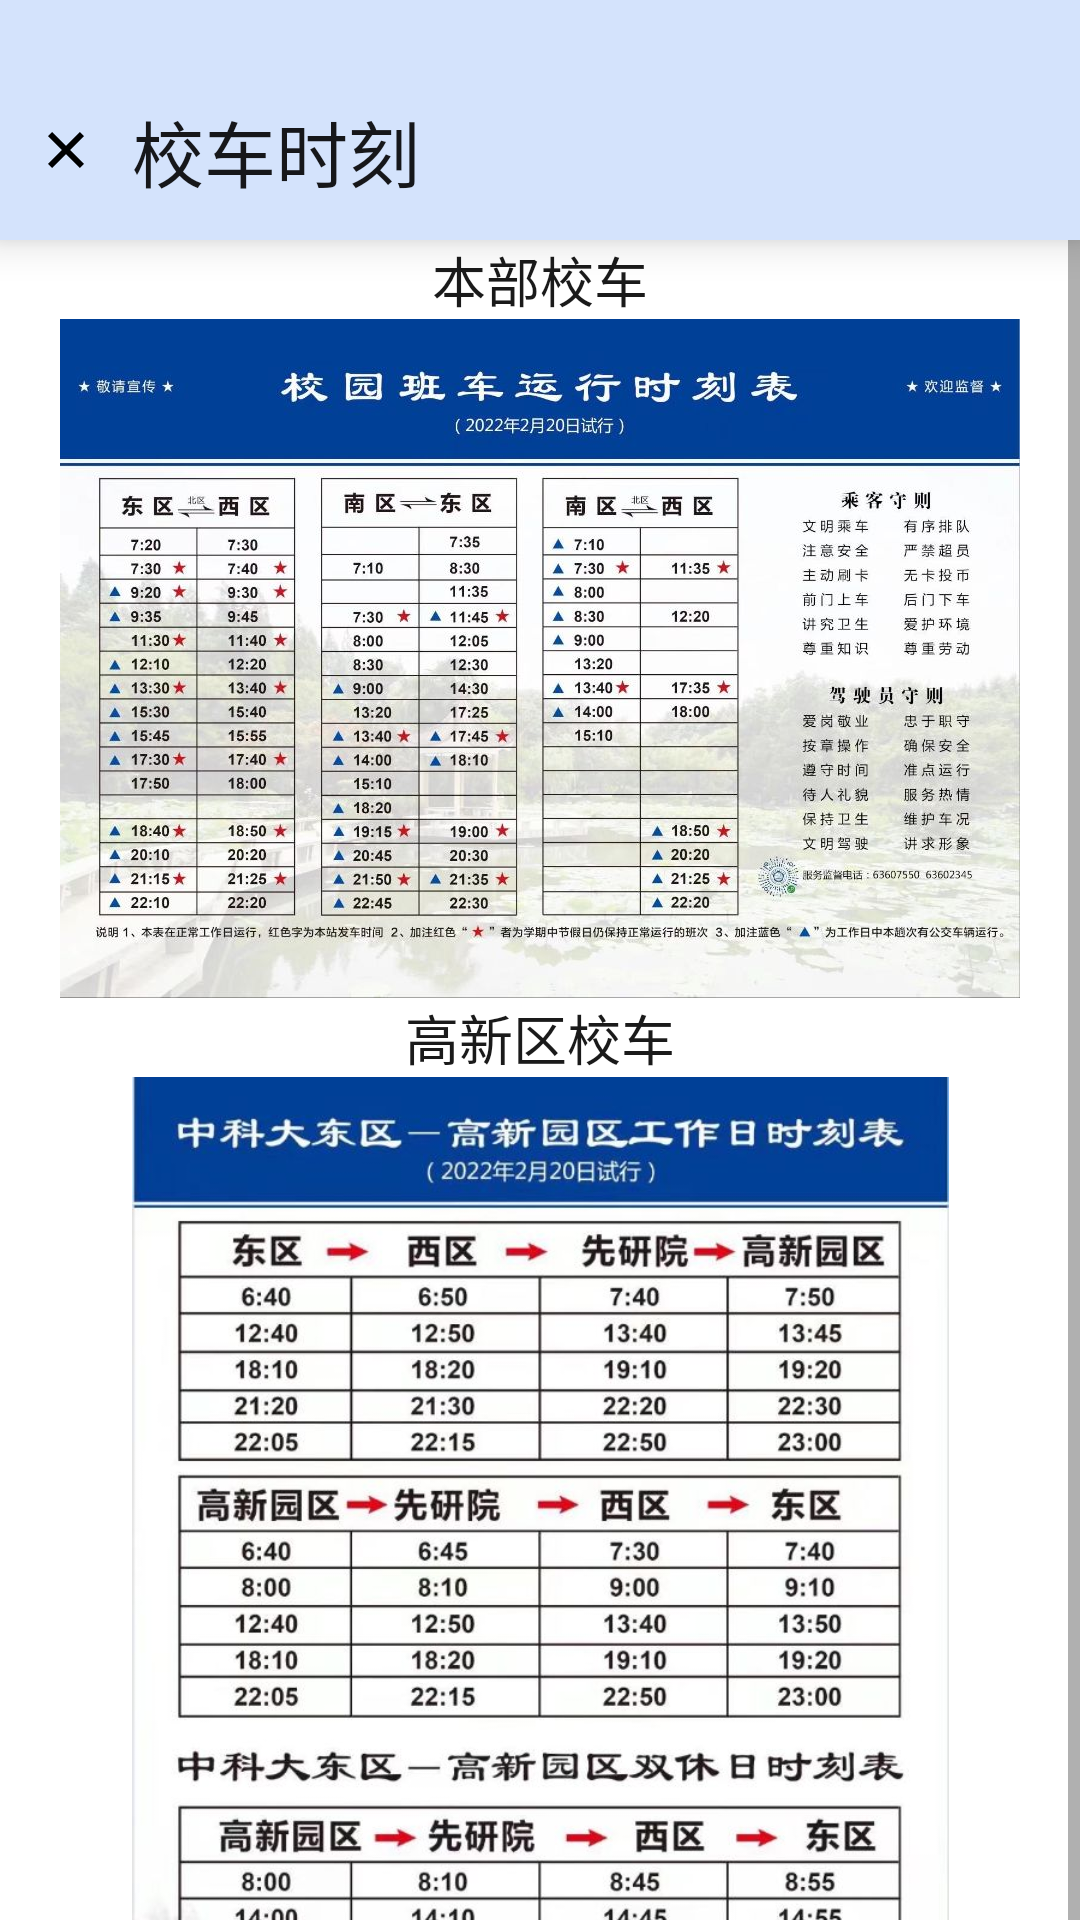

Point at icon controls on the screen. Image size 1080*1920, points as point (x, y).
close: point (66, 150)
